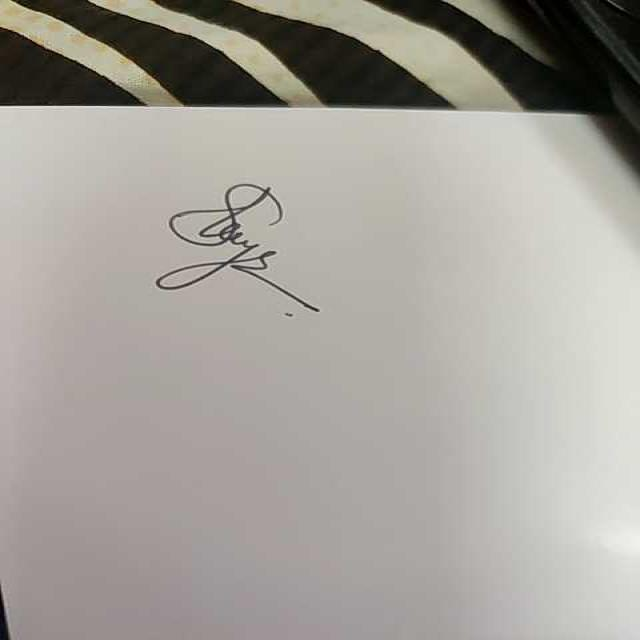signature: (150, 172, 332, 338)
